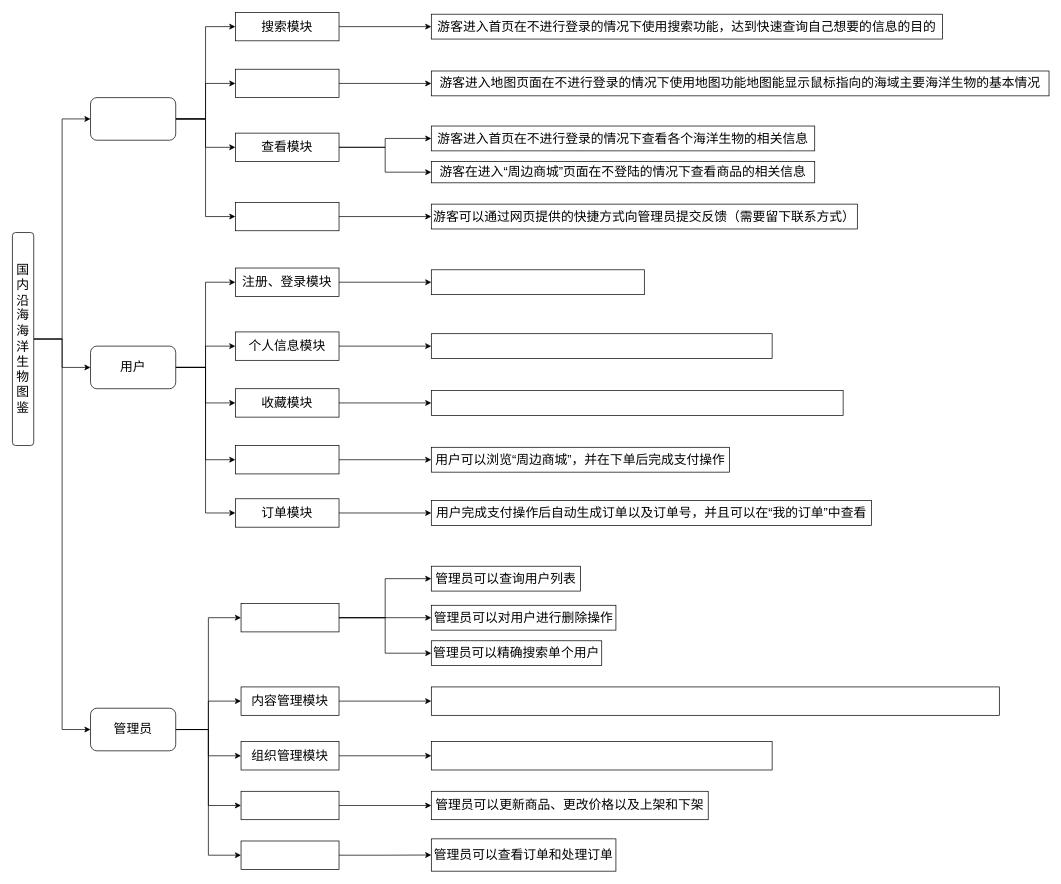
The diagram is 1061 pixels wide and 884 high, and some of its shapes have lost their labels. Each missing label, with the centre of its shape:
"反馈模块" goes at [287,216].
"向用户提供正常的注册、登录功能" goes at [537,282].
"商品管理模块" goes at [289,805].
"地图模块" goes at [287,83].
"支付模块" goes at [287,459].
"游客" goes at [133,118].
"用户可以在首页对感兴趣的海洋生物点击收藏按钮，并在“收藏夹”中查看" goes at [637,402].
"用户可以进入“个人中心”对自己的个人资料进行修改与编辑" goes at [601,346].
"用户管理模块" goes at [289,617].
"管理员可以审核和编辑用户提交的新生物信息，确保其准确性和合适性，也可以删除不适当的内容。" goes at [715,700].
"管理员可以更新、修改和上传海洋生物保护组织的相关信息" goes at [601,755].
"订单管理模块" goes at [289,854].
